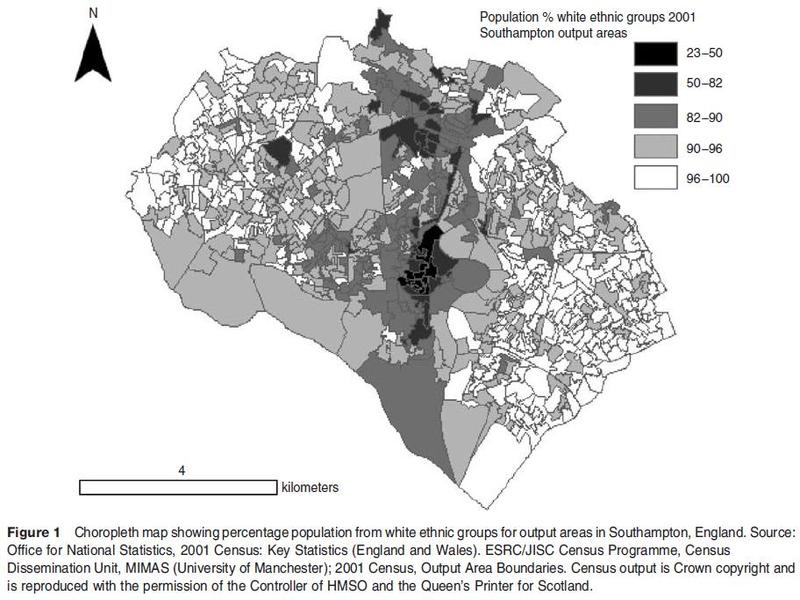legend: (478, 10, 733, 192)
